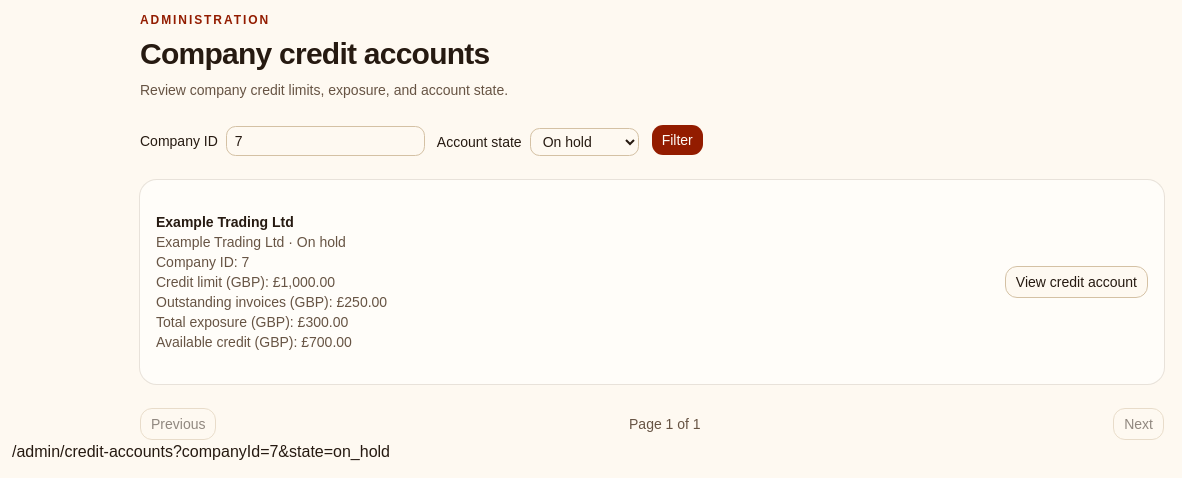
Test: AdminCreditAccountsPage › loads URL filters through the strict list client and links to account detail
Expected: the heading "Example Trading Ltd" is shown, [156,214,294,230]
Click the button "View credit account": x=1076, y=282 [1005,266,1148,298]
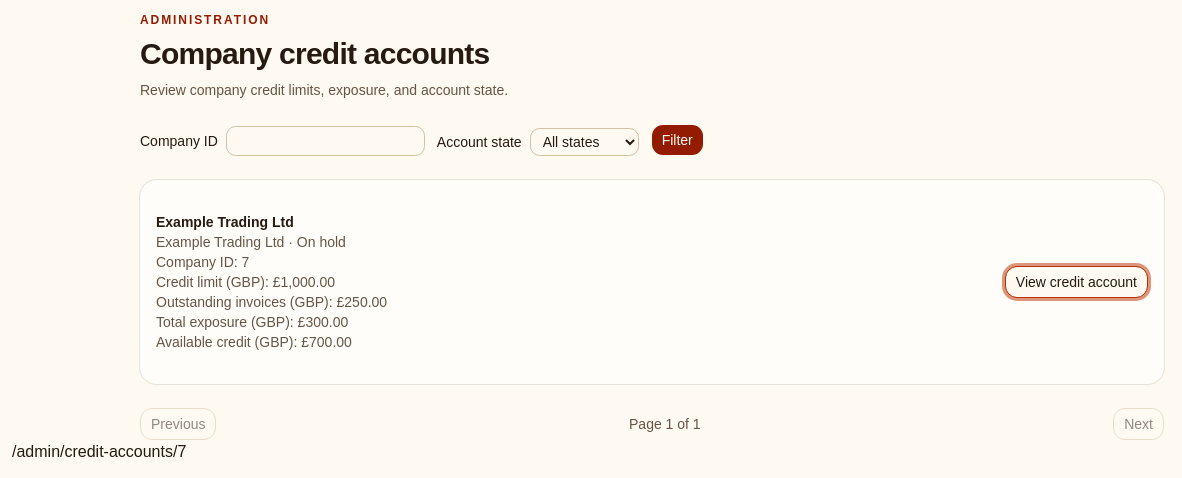
Now the text with test id "location" reads "/admin/credit-accounts/7", box [12,443,186,460]
